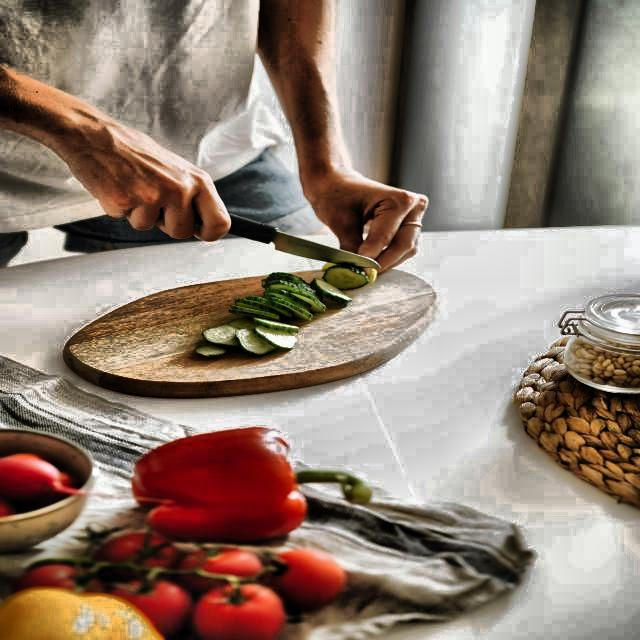knife: (180, 208, 388, 276)
